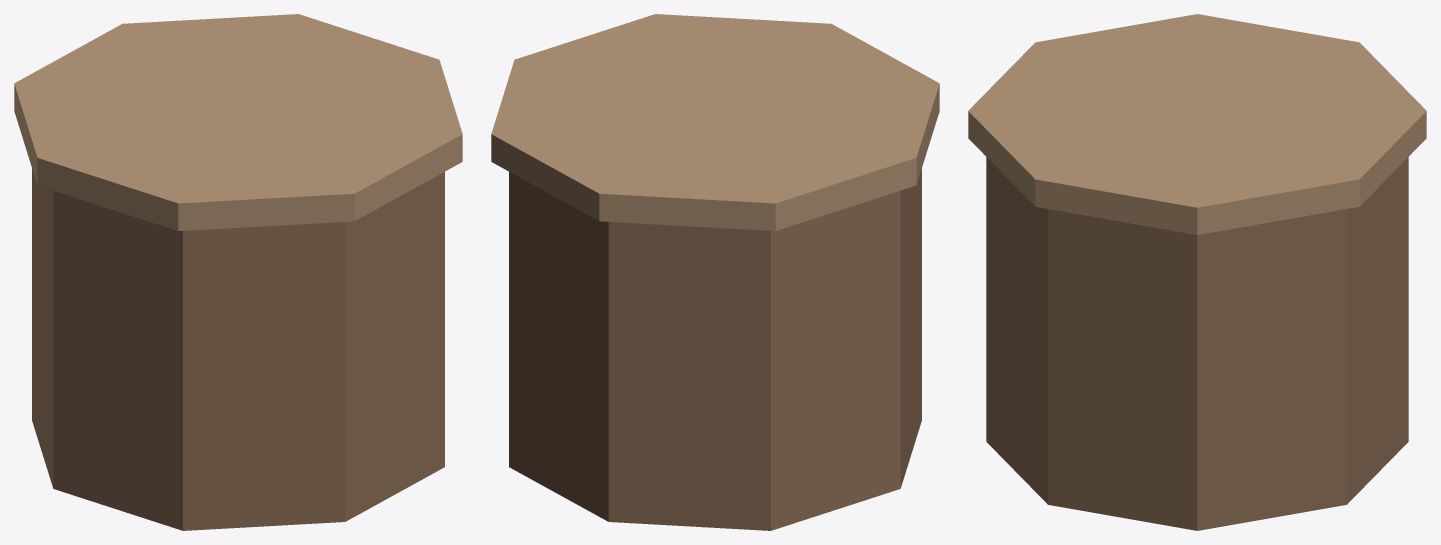
File: log_table.glb
3 views of the same model, side by side, from view 1: azimuth 30°, elevation 25°; view 2: azimuth 150°, elevation 25°; view 3: azimuth 270°, elevation 25° (orthographic).
Parts seen in each view (by area): view 1: LogTable.001; view 2: LogTable.001; view 3: LogTable.001.
Boxes of the visible parts, box(x1,y1,x2,y2) form: LogTable.001: box(14, 14, 462, 530); LogTable.001: box(491, 14, 939, 530); LogTable.001: box(968, 14, 1426, 530).
Size of the model in its own units: 0.76 by 0.605 by 0.76.
